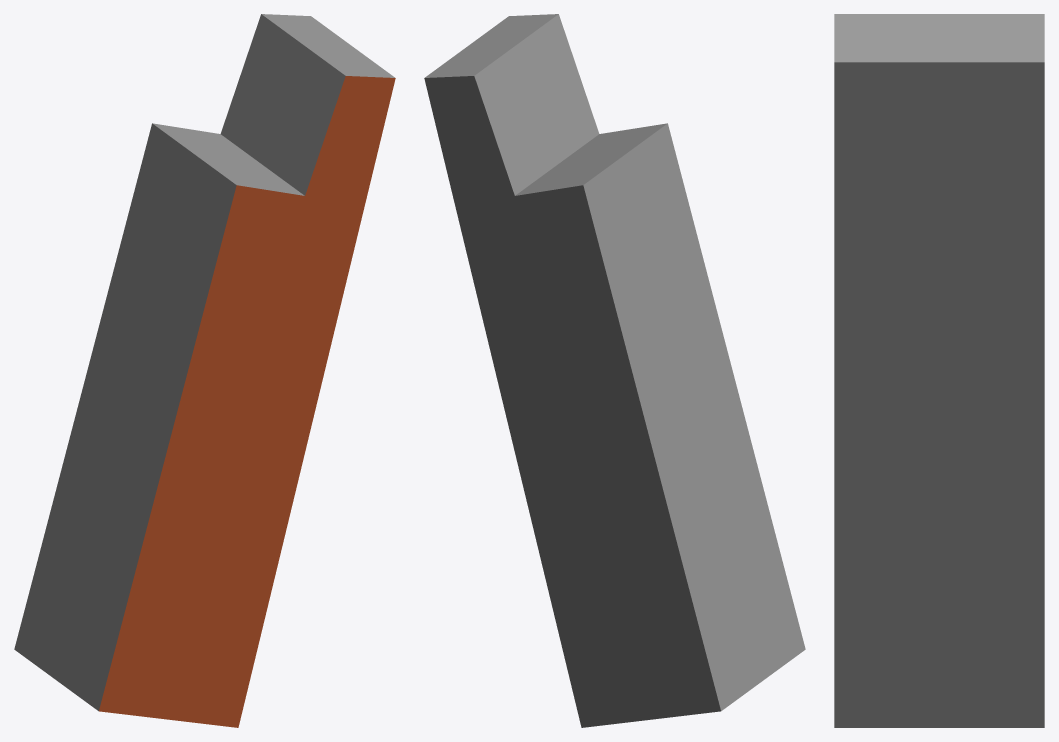
File: construction_6226_assumed_A_Casa_h6m.obj
3 renders of one model, left to right at view 1: azimuth 30°, elevation 25°; view 2: azimuth 150°, elevation 25°; view 3: azimuth 270°, elevation 25°, orthographic. The views are drawn at different scales.
Parts seen in each view (by area): view 1: construction_6226_assumed_A_Casa; view 2: construction_6226_assumed_A_Casa; view 3: construction_6226_assumed_A_Casa.
Part boxes in pixels (x1,y1,x2,y2): construction_6226_assumed_A_Casa: (14, 14, 395, 727); construction_6226_assumed_A_Casa: (424, 14, 805, 727); construction_6226_assumed_A_Casa: (834, 14, 1044, 727).
Bounding box in the file's own units: 12.17 × 24.51 × 6.
